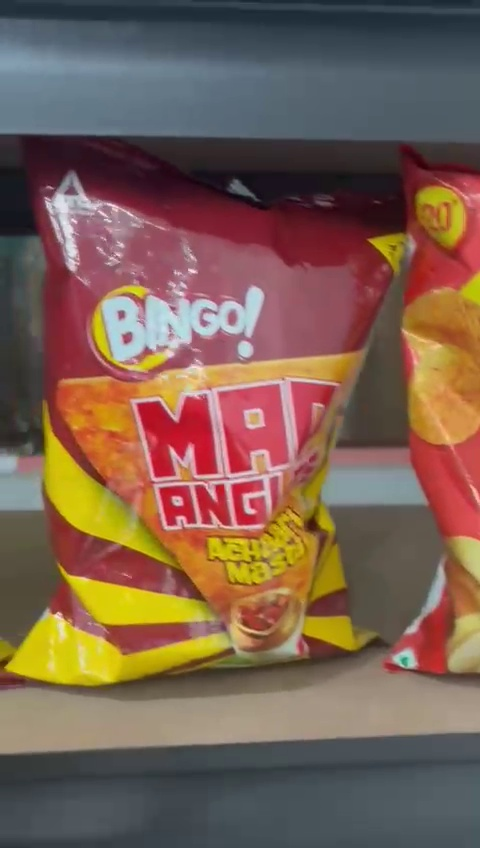Bingo Mad Angles: (15, 134, 398, 680)
